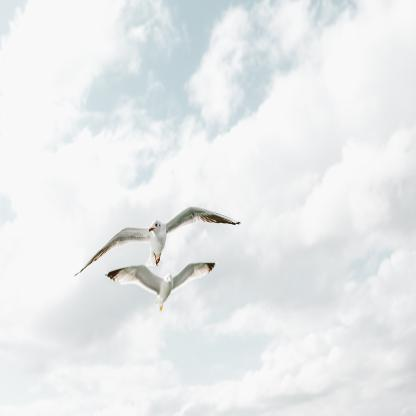bird: (76, 206, 240, 277), (107, 263, 217, 315)
